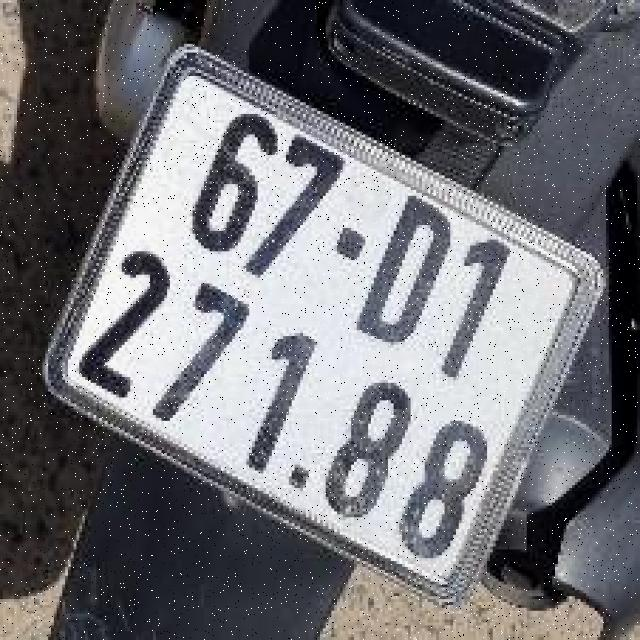1: (416, 223, 529, 396), (232, 311, 331, 484)
2: (68, 236, 197, 411)
6: (177, 102, 291, 268)
7: (230, 124, 361, 298), (142, 268, 266, 437)
8: (386, 398, 505, 579), (308, 363, 432, 533)
D: (344, 183, 469, 362)
